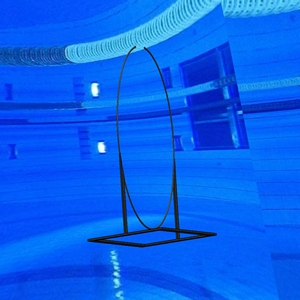circle: (87, 46, 218, 249)
